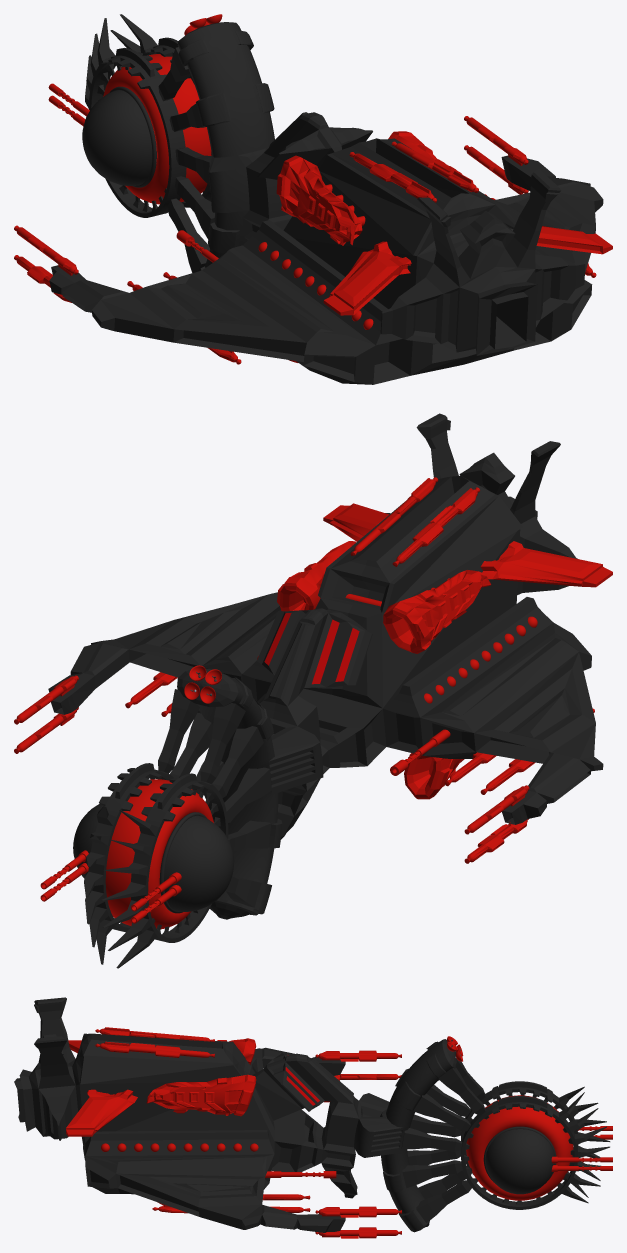
File: ennemiGros.fbx
3 renders of one model, top to bottom at view 1: azimuth 30°, elevation 25°; view 2: azimuth 150°, elevation 25°; view 3: azimuth 270°, elevation 25°, orthographic. The views are drawn at different scales.
Visible parts, largest first — view 1: Gros; view 2: Gros; view 3: Gros.
Part boxes in pixels (box(x1,y1,x2,y2)): Gros: box(14, 14, 612, 384); Gros: box(14, 413, 612, 968); Gros: box(14, 997, 612, 1238).
Size of the model in its own units: 10.99 by 15.87 by 6.09.
